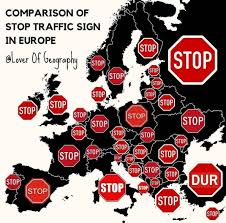stop sign: (168, 35, 217, 85), (188, 163, 223, 197), (98, 174, 126, 202), (25, 178, 50, 203), (156, 189, 181, 213), (182, 109, 205, 132), (57, 144, 80, 167), (125, 105, 149, 127), (138, 37, 159, 58), (17, 100, 38, 120), (48, 95, 68, 115), (91, 113, 110, 133), (159, 144, 178, 164), (107, 66, 126, 85), (158, 94, 175, 111), (143, 162, 160, 178), (90, 55, 106, 71), (5, 174, 21, 189), (134, 144, 149, 159), (165, 167, 180, 182), (91, 87, 106, 101), (73, 108, 88, 122), (71, 126, 86, 140), (86, 144, 100, 159), (111, 126, 126, 140), (140, 127, 155, 141), (114, 141, 129, 154), (128, 163, 142, 176), (175, 135, 189, 147), (206, 207, 218, 221), (151, 77, 163, 89), (148, 65, 160, 76), (138, 182, 149, 193), (150, 179, 161, 188), (125, 154, 134, 163), (114, 154, 122, 161)
